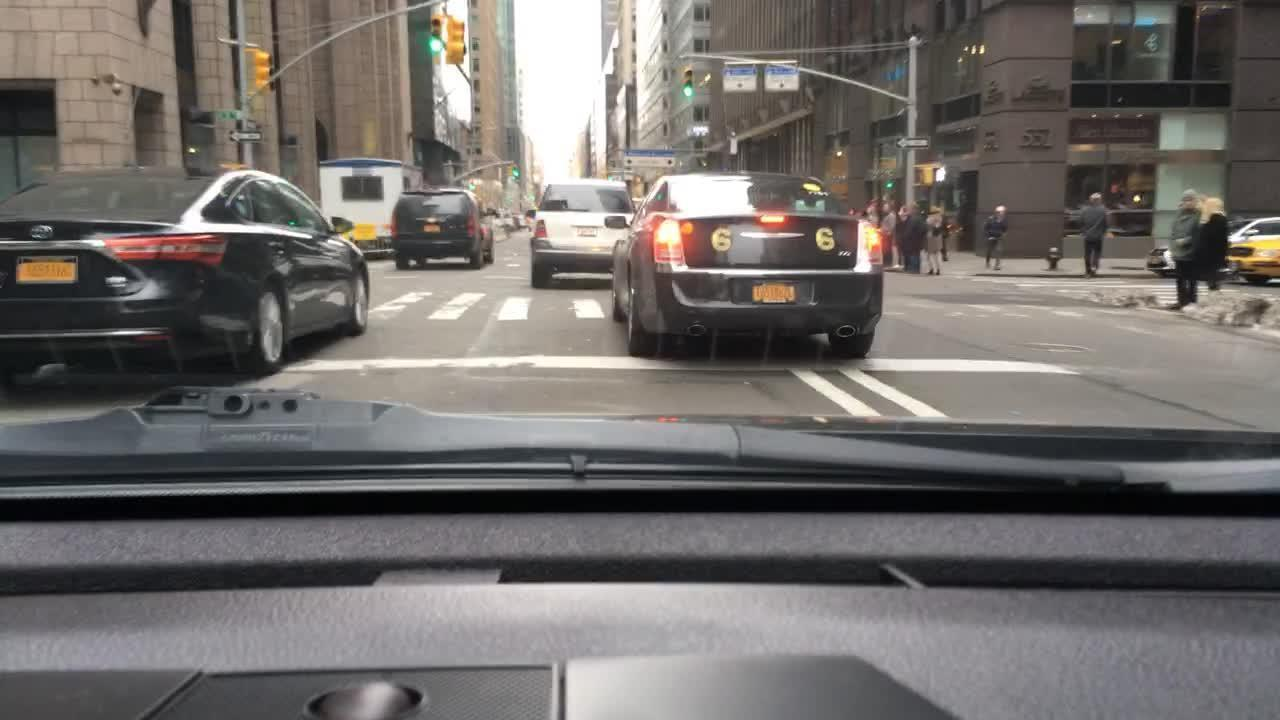Chrysler: (740, 229, 808, 241)
